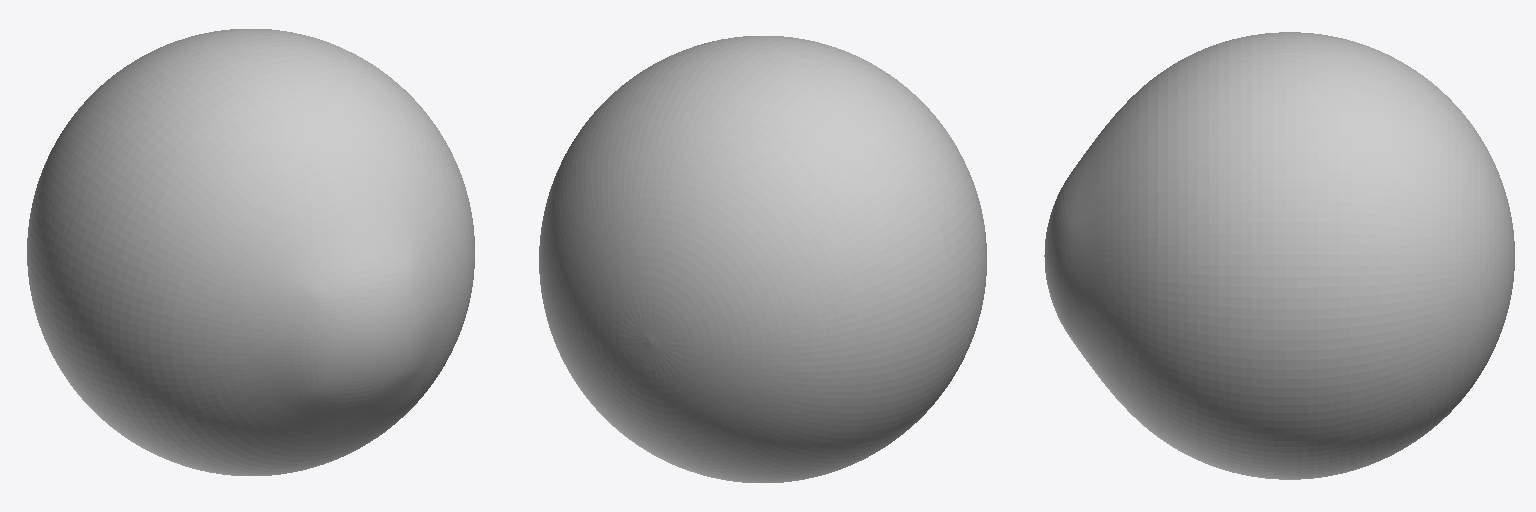
3 views of the same model, side by side, from view 1: azimuth 30°, elevation 25°; view 2: azimuth 150°, elevation 25°; view 3: azimuth 270°, elevation 25° (orthographic).
Visible parts, largest first — view 1: Eye_Sphere.002; view 2: Eye_Sphere.002; view 3: Eye_Sphere.002.
Part boxes in pixels (x1,y1,x2,y2): Eye_Sphere.002: (27,29,474,475); Eye_Sphere.002: (539,36,986,482); Eye_Sphere.002: (1044,32,1514,479).
Size of the model in its own units: 1.95 by 1.95 by 2.06.